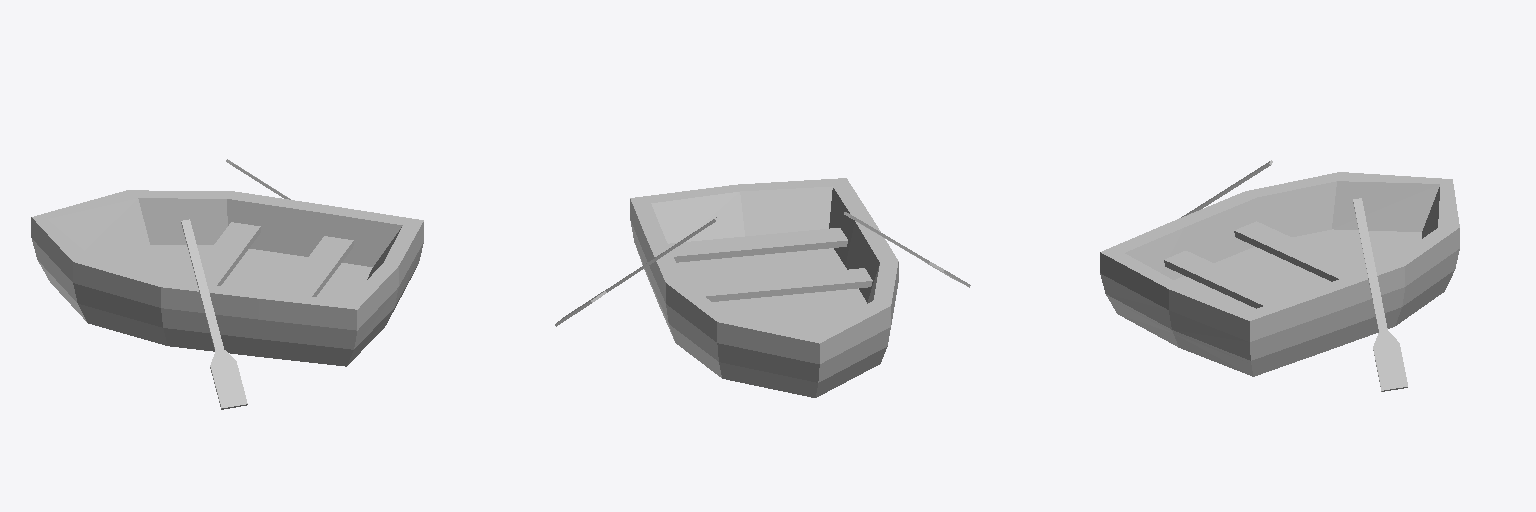
The model's file is boat.obj.
3 renders of one model, left to right at view 1: azimuth 30°, elevation 25°; view 2: azimuth 150°, elevation 25°; view 3: azimuth 270°, elevation 25°, orthographic.
Parts seen in each view (by area): view 1: boat_Mesh; view 2: boat_Mesh; view 3: boat_Mesh.
Boxes of the visible parts, <box> form: boat_Mesh: <box>31,159,423,409</box>; boat_Mesh: <box>555,178,970,397</box>; boat_Mesh: <box>1100,160,1459,391</box>.
Size of the model in its own units: 2.55 by 1.02 by 2.6.